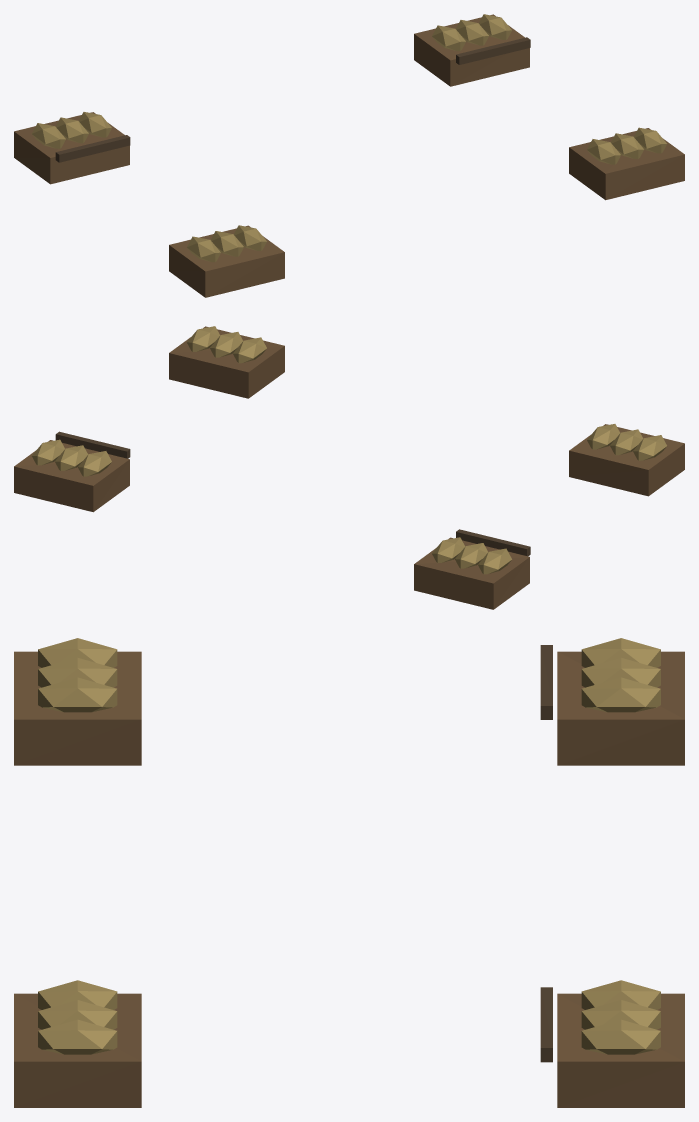
File: RES-04-5.glb
The picture shows the model from 3 angles, top to bottom: view 1: azimuth 30°, elevation 25°; view 2: azimuth 150°, elevation 25°; view 3: azimuth 270°, elevation 25°; orthographic projection. The views are drawn at different scales.
Parts seen in each view (by area): view 1: city-details/RES-04-5; view 2: city-details/RES-04-5; view 3: city-details/RES-04-5.
Boxes of the visible parts, x1,y1,x2,y2 form: city-details/RES-04-5: (14,14,684,297); city-details/RES-04-5: (14,326,684,609); city-details/RES-04-5: (14,638,684,1107).
Size of the model in its own units: 8.75 by 0.6831 by 6.05.
